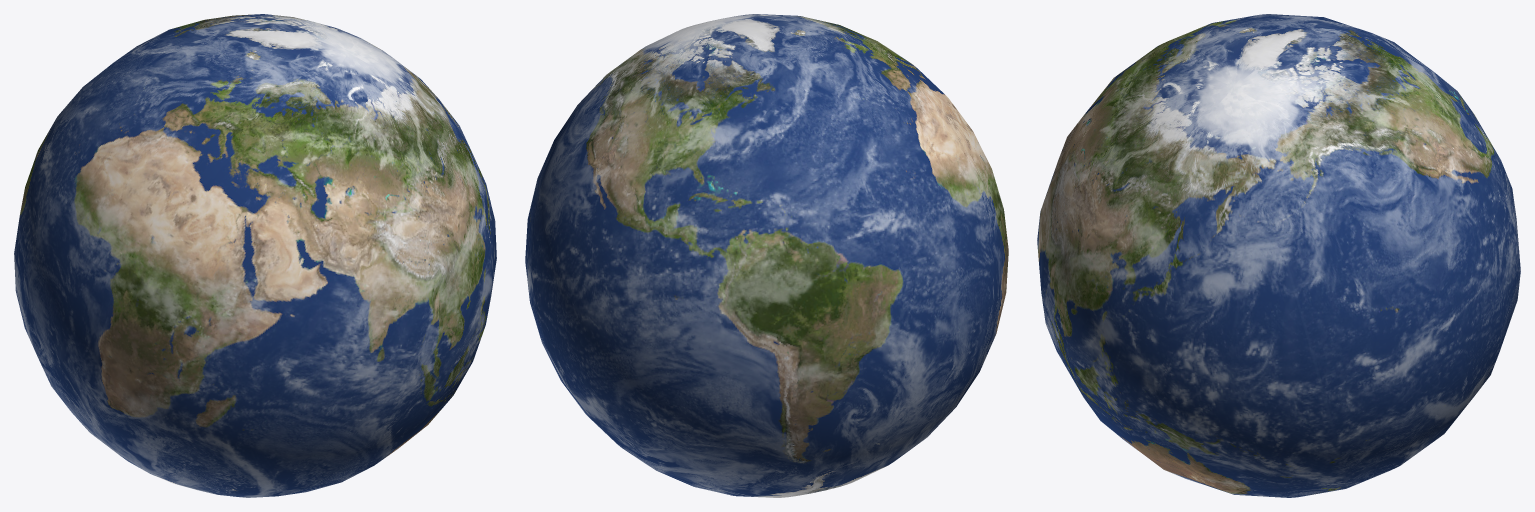
The model's file is earth.glb.
3 renders of one model, left to right at view 1: azimuth 30°, elevation 25°; view 2: azimuth 150°, elevation 25°; view 3: azimuth 270°, elevation 25°, orthographic.
Visible parts, largest first — view 1: Earth; view 2: Earth; view 3: Earth.
Boxes of the visible parts, x1=… form: Earth: x1=14, y1=14, x2=496, y2=497; Earth: x1=525, y1=14, x2=1008, y2=497; Earth: x1=1037, y1=14, x2=1520, y2=497.
Size of the model in its own units: 1.98 by 2 by 1.99.
Materials: 1 (1 with a texture image).
